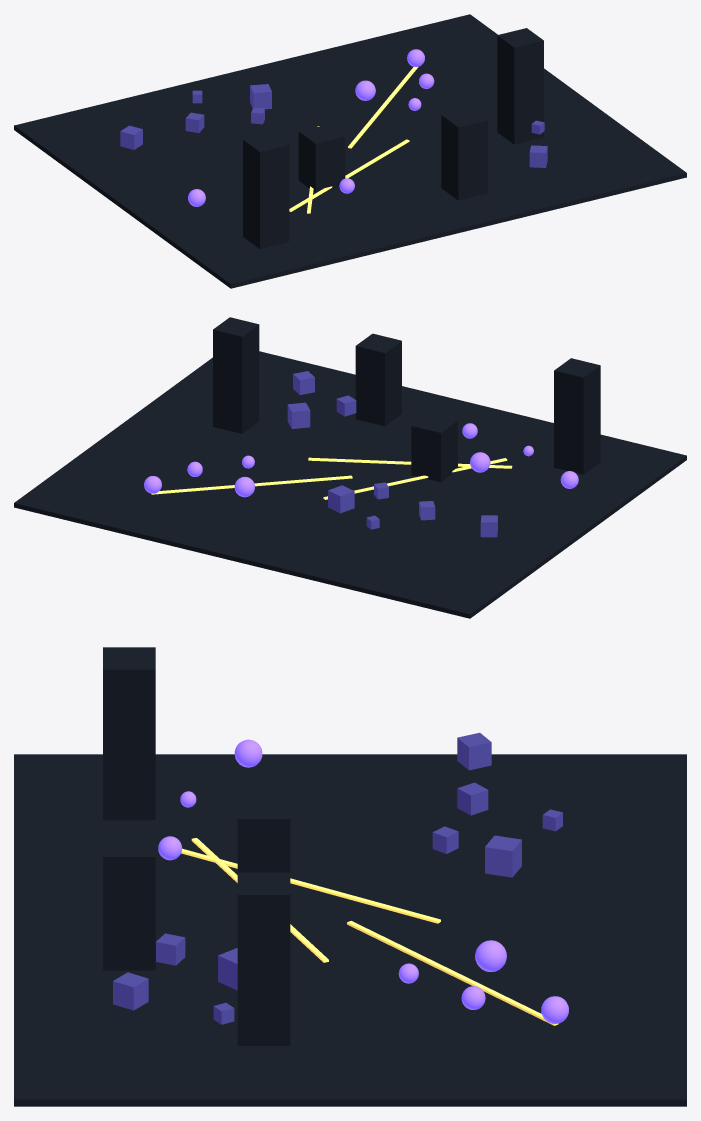
Rendered from south-vault.glb.
The picture shows the model from 3 angles, top to bottom: view 1: azimuth 30°, elevation 25°; view 2: azimuth 150°, elevation 25°; view 3: azimuth 270°, elevation 25°; orthographic projection. The views are drawn at different scales.
Visible parts, largest first — view 1: GD_south-vault_walkable_platform, GD_south-vault_distant_tower_0, GD_south-vault_distant_tower_3, GD_south-vault_distant_tower_2, GD_south-vault_distant_tower_1, GD_south-vault_cluster_17, GD_south-vault_pcg_route_0, GD_south-vault_cluster_1, GD_south-vault_pcg_route_6; view 2: GD_south-vault_walkable_platform, GD_south-vault_distant_tower_3, GD_south-vault_distant_tower_0, GD_south-vault_distant_tower_2, GD_south-vault_distant_tower_1, GD_south-vault_pcg_route_6, GD_south-vault_cluster_17, GD_south-vault_cluster_7, GD_south-vault_pcg_route_0; view 3: GD_south-vault_walkable_platform, GD_south-vault_distant_tower_3, GD_south-vault_distant_tower_0, GD_south-vault_distant_tower_2, GD_south-vault_distant_tower_1, GD_south-vault_cluster_17, GD_south-vault_pcg_route_6, GD_south-vault_pcg_route_12, GD_south-vault_cluster_11, GD_south-vault_cluster_1, GD_south-vault_cluster_5, GD_south-vault_cluster_15 (+3 smaller).
Boxes of the visible parts, left/top/right/bottom form: GD_south-vault_walkable_platform: left=14, top=14, right=686, bottom=288; GD_south-vault_distant_tower_0: left=243, top=132, right=289, bottom=248; GD_south-vault_distant_tower_3: left=497, top=28, right=543, bottom=144; GD_south-vault_distant_tower_2: left=441, top=108, right=487, bottom=200; GD_south-vault_distant_tower_1: left=298, top=124, right=345, bottom=192; GD_south-vault_cluster_17: left=250, top=84, right=271, bottom=109; GD_south-vault_pcg_route_0: left=289, top=139, right=409, bottom=211; GD_south-vault_cluster_1: left=120, top=125, right=142, bottom=149; GD_south-vault_pcg_route_6: left=348, top=67, right=418, bottom=148; GD_south-vault_walkable_platform: left=14, top=351, right=686, bottom=618; GD_south-vault_distant_tower_3: left=213, top=317, right=259, bottom=433; GD_south-vault_distant_tower_0: left=554, top=358, right=600, bottom=474; GD_south-vault_distant_tower_2: left=355, top=333, right=401, bottom=426; GD_south-vault_distant_tower_1: left=411, top=413, right=457, bottom=482; GD_south-vault_pcg_route_6: left=151, top=475, right=352, bottom=494; GD_south-vault_cluster_17: left=328, top=485, right=354, bottom=513; GD_south-vault_cluster_7: left=287, top=402, right=310, bottom=428; GD_south-vault_pcg_route_0: left=308, top=457, right=512, bottom=468; GD_south-vault_walkable_platform: left=14, top=754, right=686, bottom=1106; GD_south-vault_distant_tower_3: left=237, top=872, right=290, bottom=1045; GD_south-vault_distant_tower_0: left=103, top=647, right=155, bottom=820; GD_south-vault_distant_tower_2: left=103, top=834, right=155, bottom=970; GD_south-vault_distant_tower_1: left=237, top=796, right=290, bottom=872; GD_south-vault_cluster_17: left=485, top=835, right=521, bottom=877; GD_south-vault_pcg_route_6: left=347, top=921, right=558, bottom=1025; GD_south-vault_pcg_route_12: left=181, top=848, right=440, bottom=923; GD_south-vault_cluster_11: left=113, top=972, right=148, bottom=1010; GD_south-vault_cluster_1: left=457, top=732, right=491, bottom=770; GD_south-vault_cluster_5: left=457, top=782, right=488, bottom=815; GD_south-vault_cluster_15: left=156, top=933, right=185, bottom=965.
Size of the model in its own units: 17 by 3.62 by 14.
